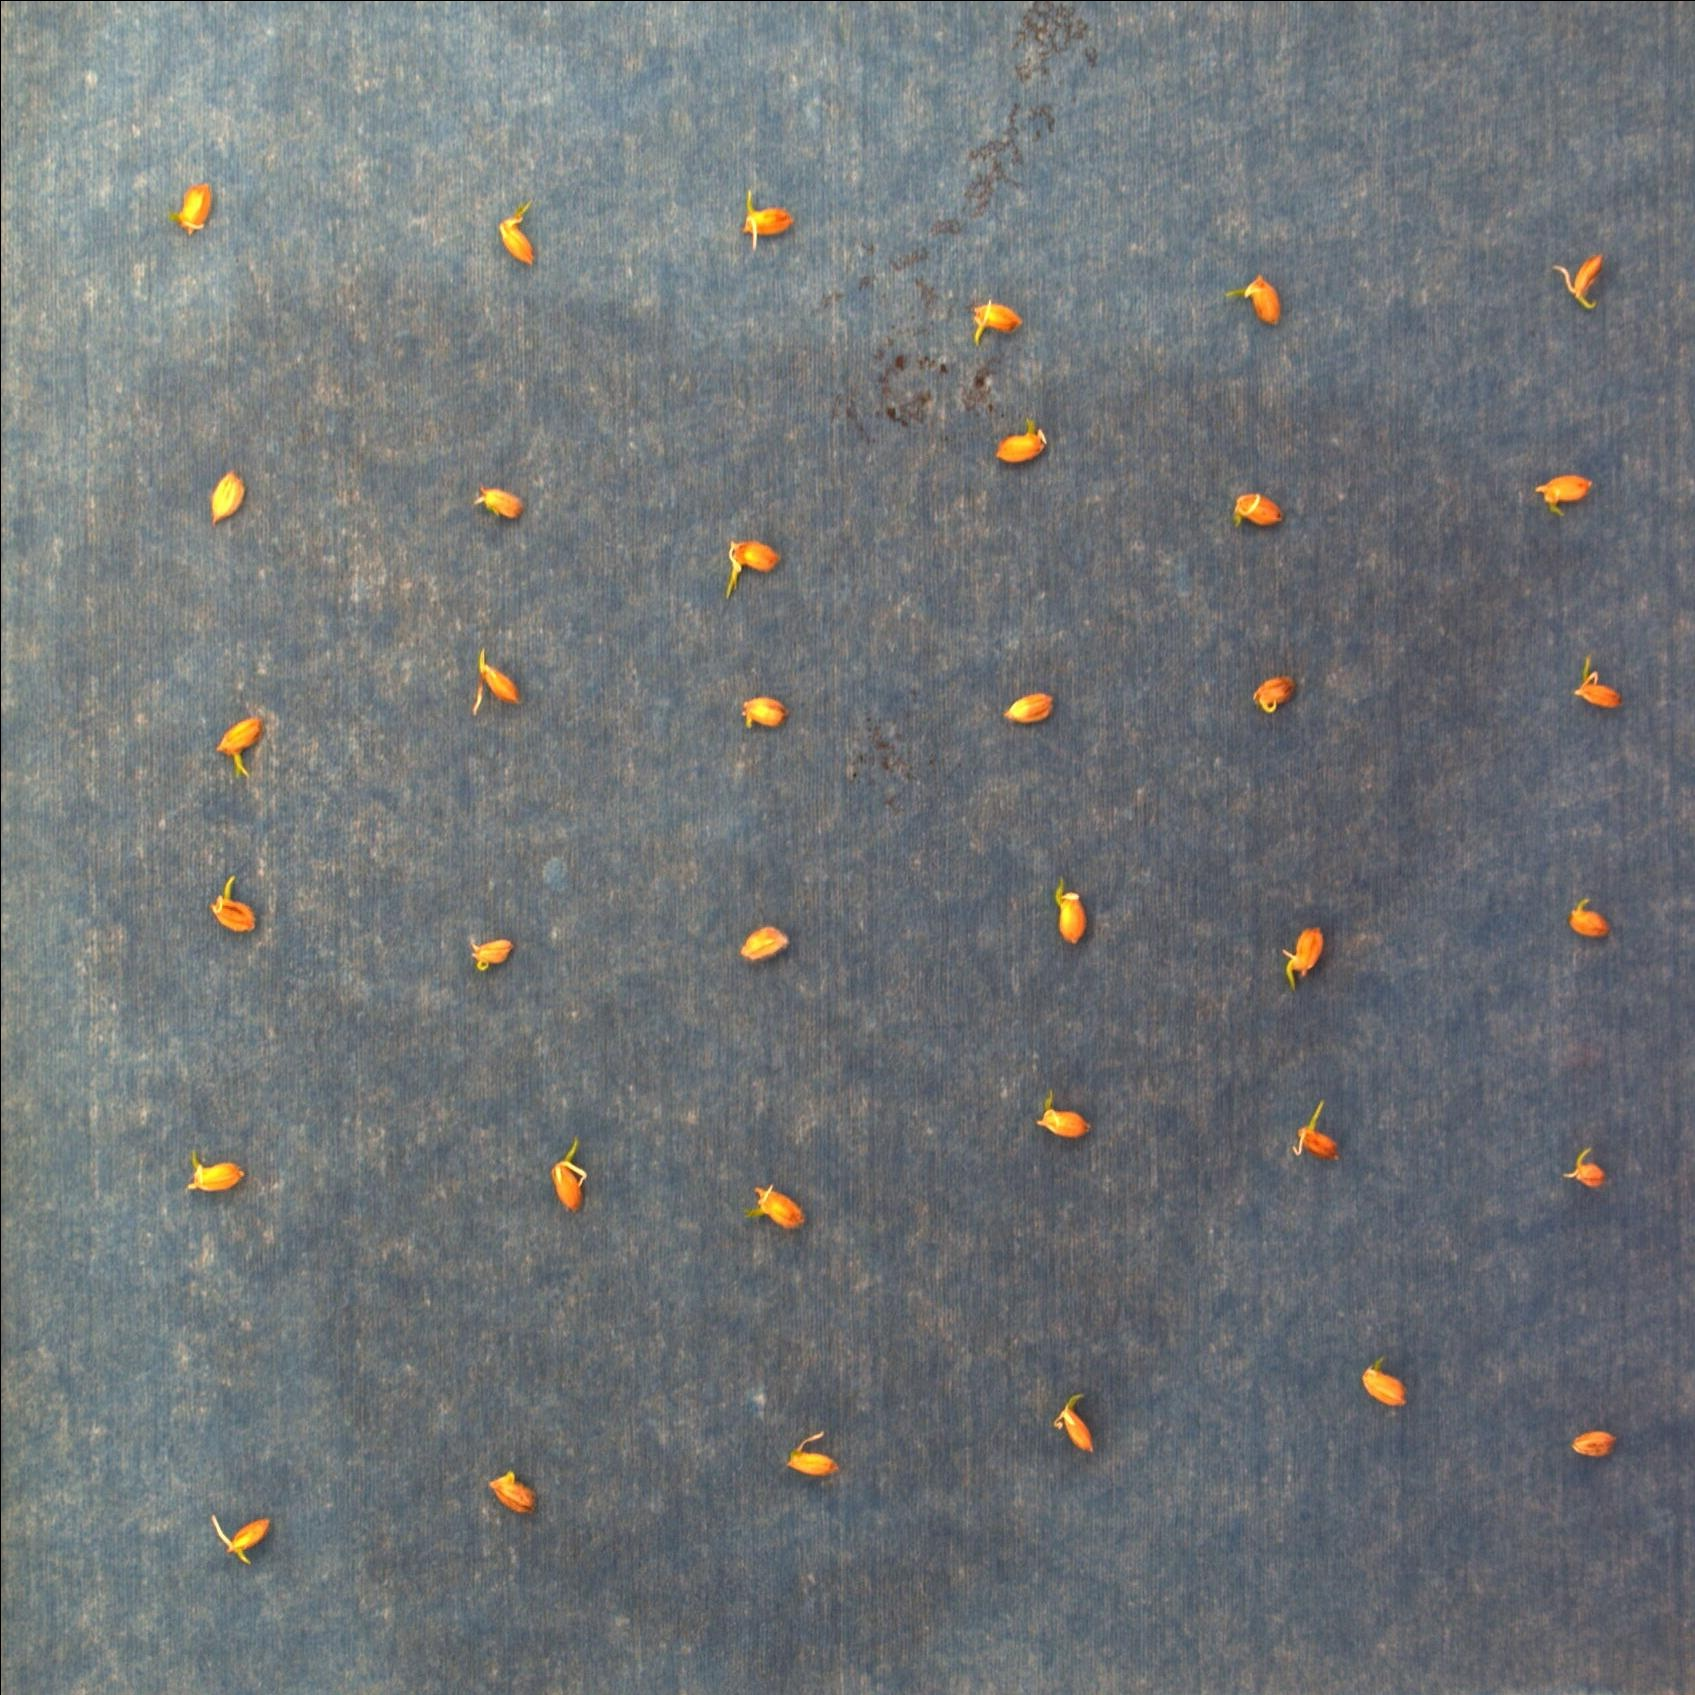not sprout: (737, 186, 799, 250), (469, 647, 525, 717), (213, 716, 267, 784), (1551, 248, 1607, 314), (781, 1430, 847, 1481), (1226, 272, 1287, 328), (723, 534, 776, 598), (1279, 922, 1322, 997), (747, 1184, 810, 1234), (1051, 1391, 1101, 1454), (1035, 1093, 1094, 1144), (497, 200, 542, 267), (185, 1149, 247, 1197), (1575, 657, 1630, 709), (484, 1470, 542, 1520), (210, 874, 256, 934), (1361, 1357, 1411, 1412), (469, 480, 529, 525), (1537, 470, 1591, 517), (993, 421, 1048, 466), (1052, 882, 1088, 950), (1568, 894, 1616, 944), (967, 300, 1021, 343), (997, 691, 1054, 728), (1232, 494, 1288, 531), (1568, 1425, 1617, 1464), (172, 185, 206, 241), (210, 467, 244, 523), (463, 936, 514, 973), (736, 695, 785, 733), (739, 925, 790, 961), (1251, 677, 1296, 716), (1568, 1147, 1607, 1191)
sprout: (206, 1510, 272, 1563), (1295, 1101, 1343, 1166), (549, 1138, 585, 1217)
